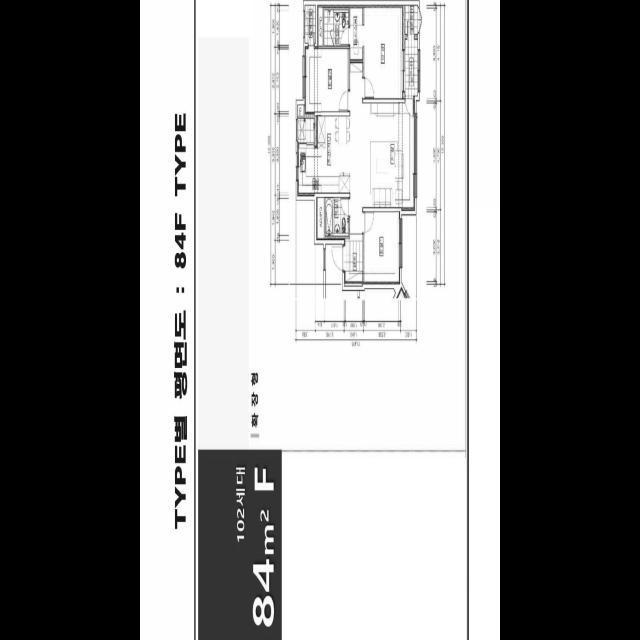background: (140, 0, 500, 640)
space_balconi: (405, 39, 418, 98), (298, 118, 314, 142)
space_bedroom: (364, 5, 403, 98), (305, 46, 348, 113), (364, 211, 400, 284)
space_dressroom: (350, 5, 363, 59)
space_front: (344, 234, 363, 285)
space_kitchen: (298, 115, 350, 195)
space_living_room: (350, 62, 415, 234)
space_other: (405, 5, 418, 34), (317, 197, 324, 239), (317, 5, 323, 45), (298, 105, 304, 116)
space_outdoor_room: (305, 5, 315, 43)
space_toilet: (325, 197, 349, 236), (324, 9, 349, 45)
